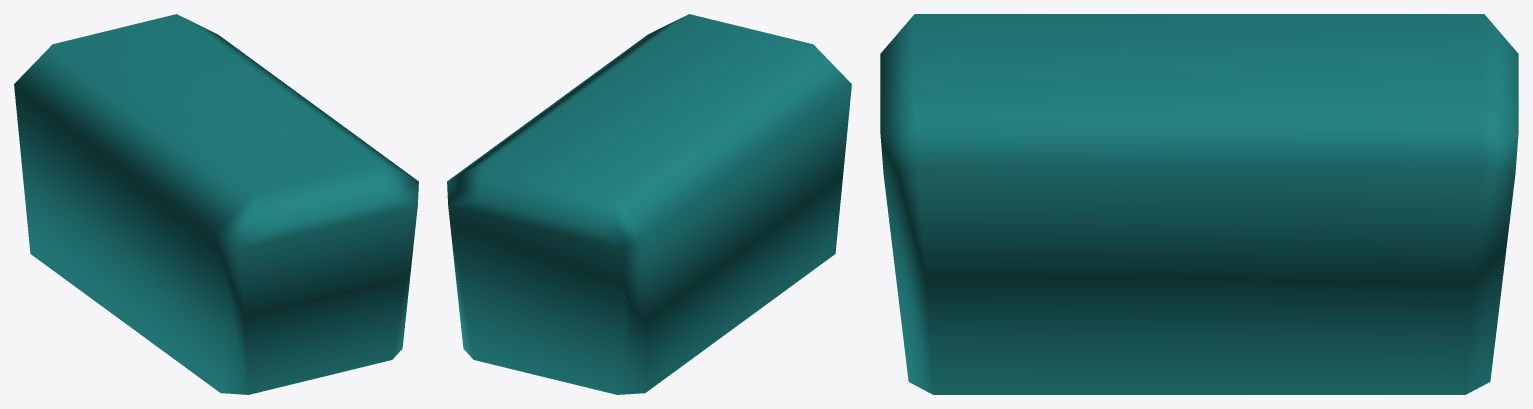
The model's file is gymnastic_goat_collider.fbx.
3 views of the same model, side by side, from view 1: azimuth 30°, elevation 25°; view 2: azimuth 150°, elevation 25°; view 3: azimuth 270°, elevation 25° (orthographic). The views are drawn at different scales.
Visible parts, largest first — view 1: gymnastic_goat_collider; view 2: gymnastic_goat_collider; view 3: gymnastic_goat_collider.
Part boxes in pixels (box(x1,y1,x2,y2)): gymnastic_goat_collider: box(14, 14, 418, 394); gymnastic_goat_collider: box(447, 14, 851, 394); gymnastic_goat_collider: box(880, 14, 1518, 394).
Size of the model in its own units: 37.38 by 34.61 by 72.39.
